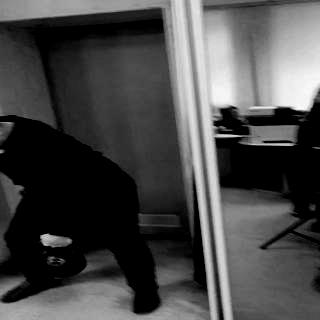kettlebell: (31, 236, 87, 277)
